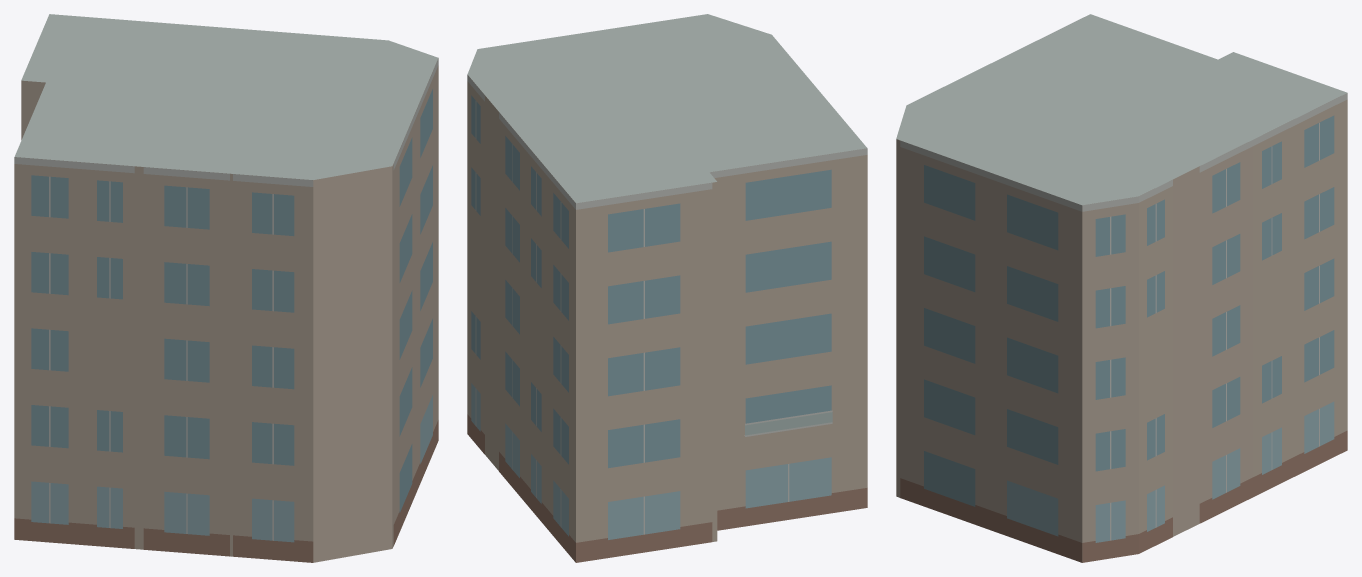
Rendered from survey-upis-32573765.glb.
3 renders of one model, left to right at view 1: azimuth 30°, elevation 25°; view 2: azimuth 150°, elevation 25°; view 3: azimuth 270°, elevation 25°, orthographic. The views are drawn at different scales.
Parts seen in each view (by area): view 1: survey-upis-32573765.tmp; view 2: survey-upis-32573765.tmp; view 3: survey-upis-32573765.tmp.
Part boxes in pixels (bbox=[...]): survey-upis-32573765.tmp: bbox=[14, 14, 438, 562]; survey-upis-32573765.tmp: bbox=[467, 14, 867, 562]; survey-upis-32573765.tmp: bbox=[896, 14, 1347, 562].
Bounding box in the file's own units: 15.39 × 13.4 × 15.34.
